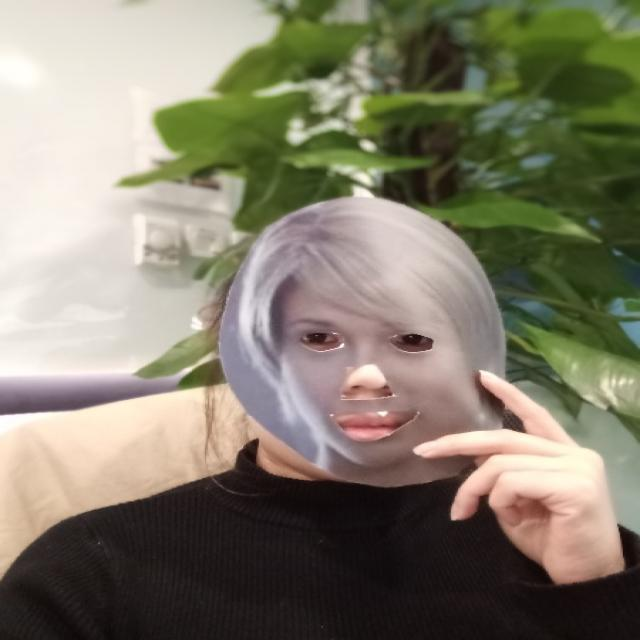mask: (213, 194, 518, 490)
